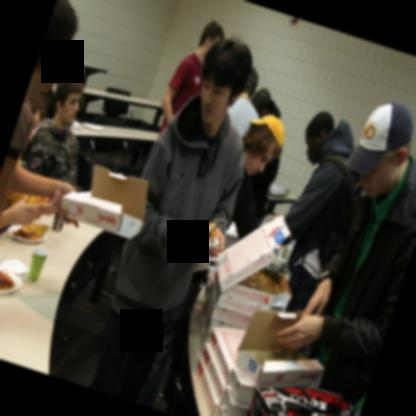backpack: (297, 156, 361, 277)
